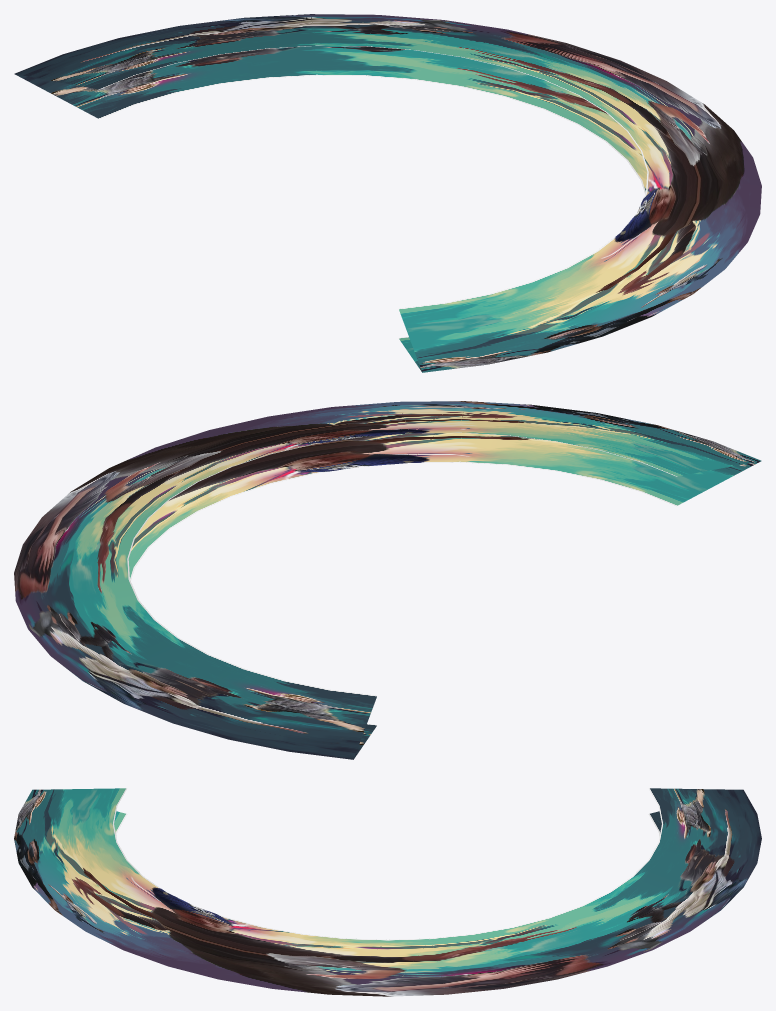
File: SwordSlashThin_over.fbx
3 views of the same model, one above another, from view 1: azimuth 30°, elevation 25°; view 2: azimuth 150°, elevation 25°; view 3: azimuth 270°, elevation 25° (orthographic). The views are drawn at different scales.
Parts seen in each view (by area): view 1: SwordSlash_finalover; view 2: SwordSlash_finalover; view 3: SwordSlash_finalover.
Boxes of the visible parts, box(x1,y1,x2,y2) form: SwordSlash_finalover: box(14, 14, 761, 372); SwordSlash_finalover: box(14, 401, 761, 759); SwordSlash_finalover: box(14, 788, 761, 996).
Bounding box in the file's own units: 202 × 11.73 × 309.
1 material, 1 textured.
